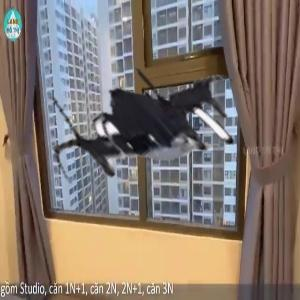drone: (44, 18, 257, 231)
